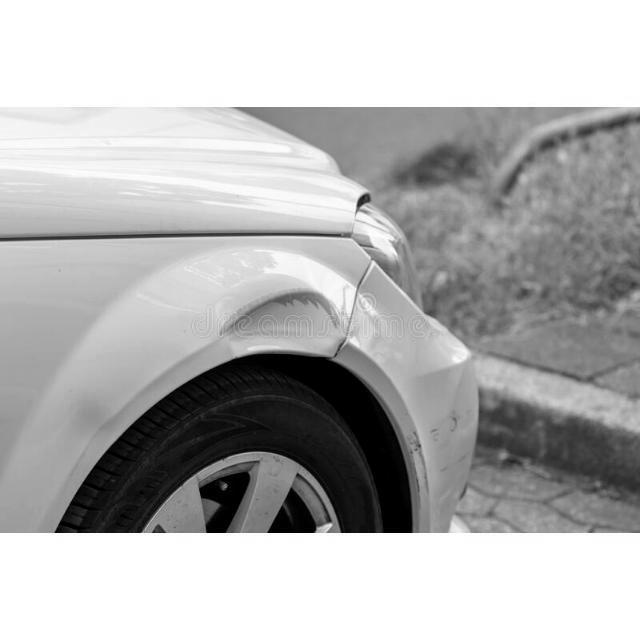fender-dent: (1, 238, 346, 500)
front-bumper-dent: (348, 234, 488, 532)
